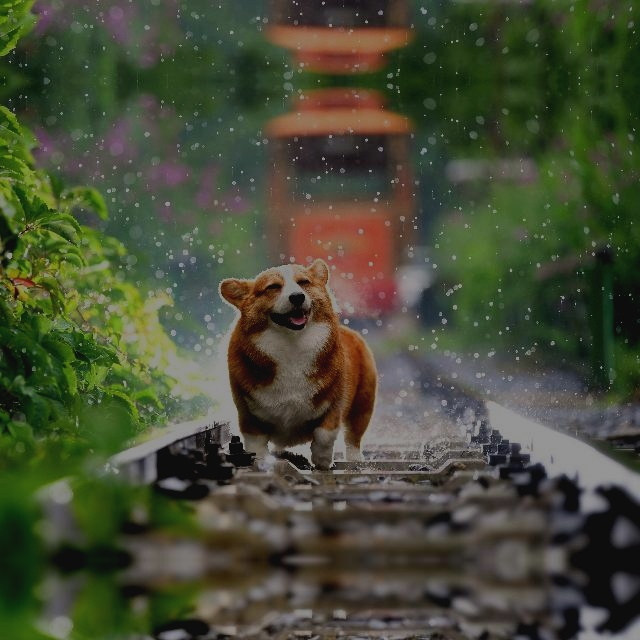dog: (194, 238, 402, 461)
